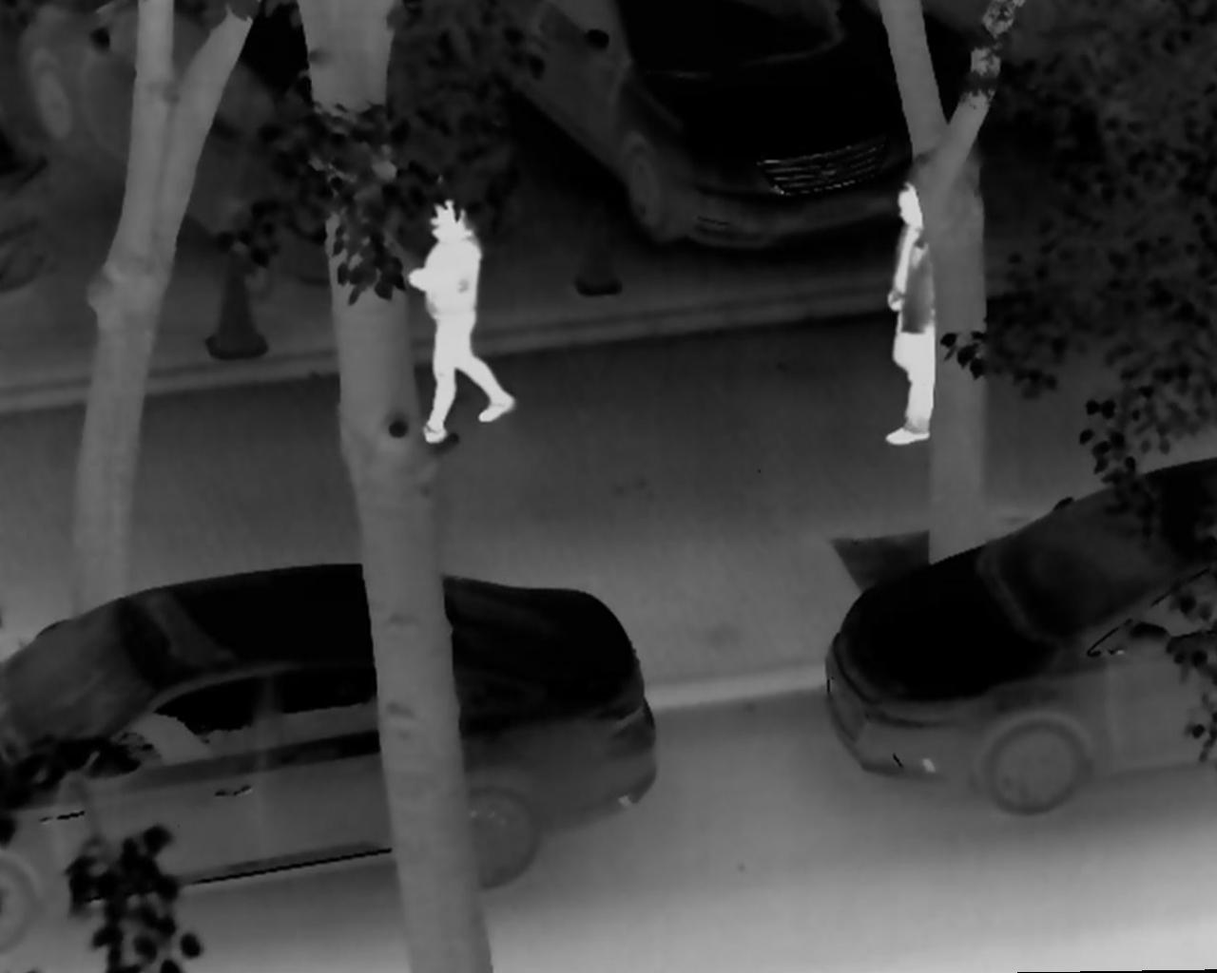person: (410, 173, 518, 455), (878, 175, 968, 447)
